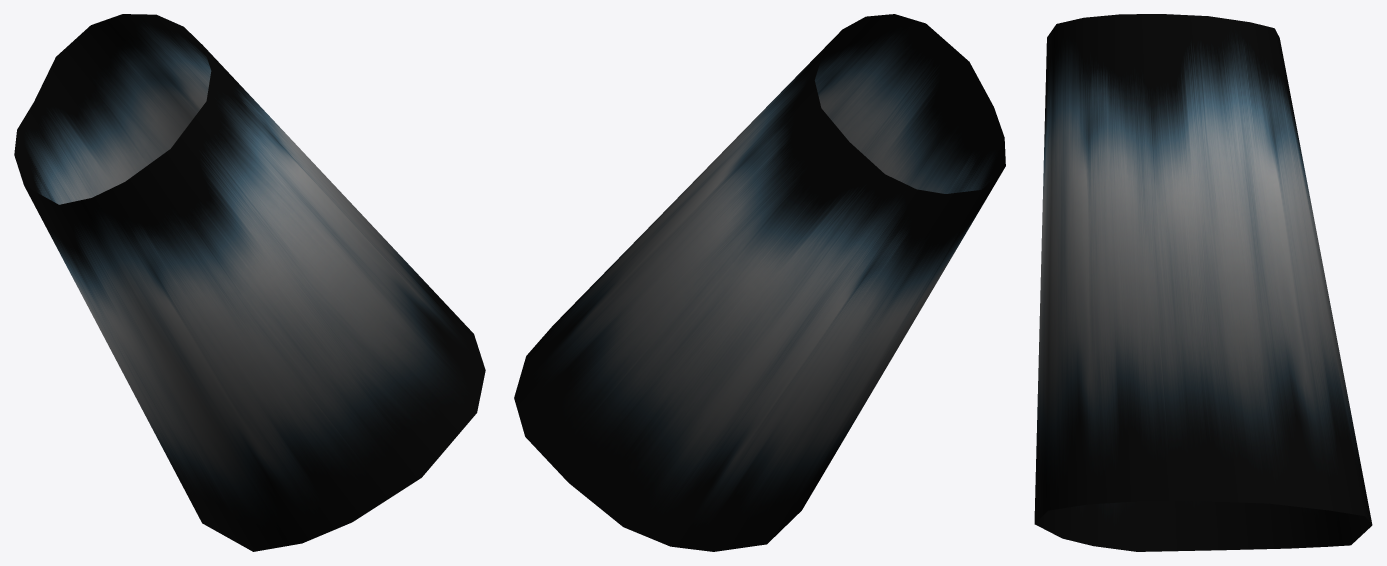
File: rays01.fbx
3 views of the same model, side by side, from view 1: azimuth 30°, elevation 25°; view 2: azimuth 150°, elevation 25°; view 3: azimuth 270°, elevation 25° (orthographic). The views are drawn at different scales.
Visible parts, largest first — view 1: Cube_002; view 2: Cube_002; view 3: Cube_002.
Part boxes in pixels (bbox=[...]): Cube_002: bbox=[14, 14, 485, 551]; Cube_002: bbox=[514, 14, 1005, 551]; Cube_002: bbox=[1034, 14, 1372, 551].
Bounding box in the file's own units: 32.67 × 37.93 × 22.64.
